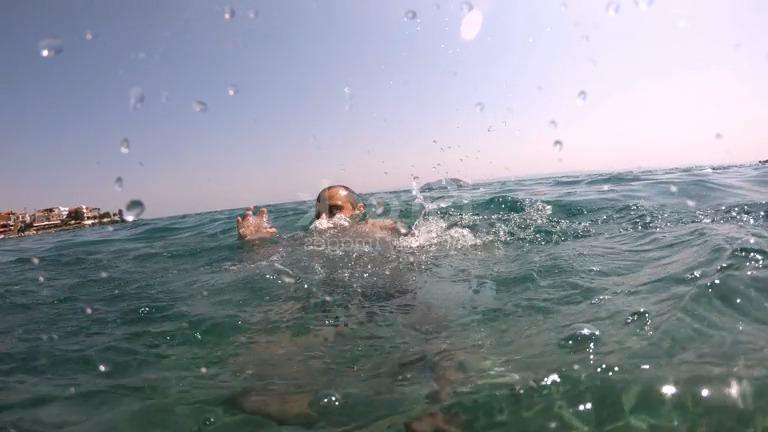Drowning: (144, 86, 529, 388)
